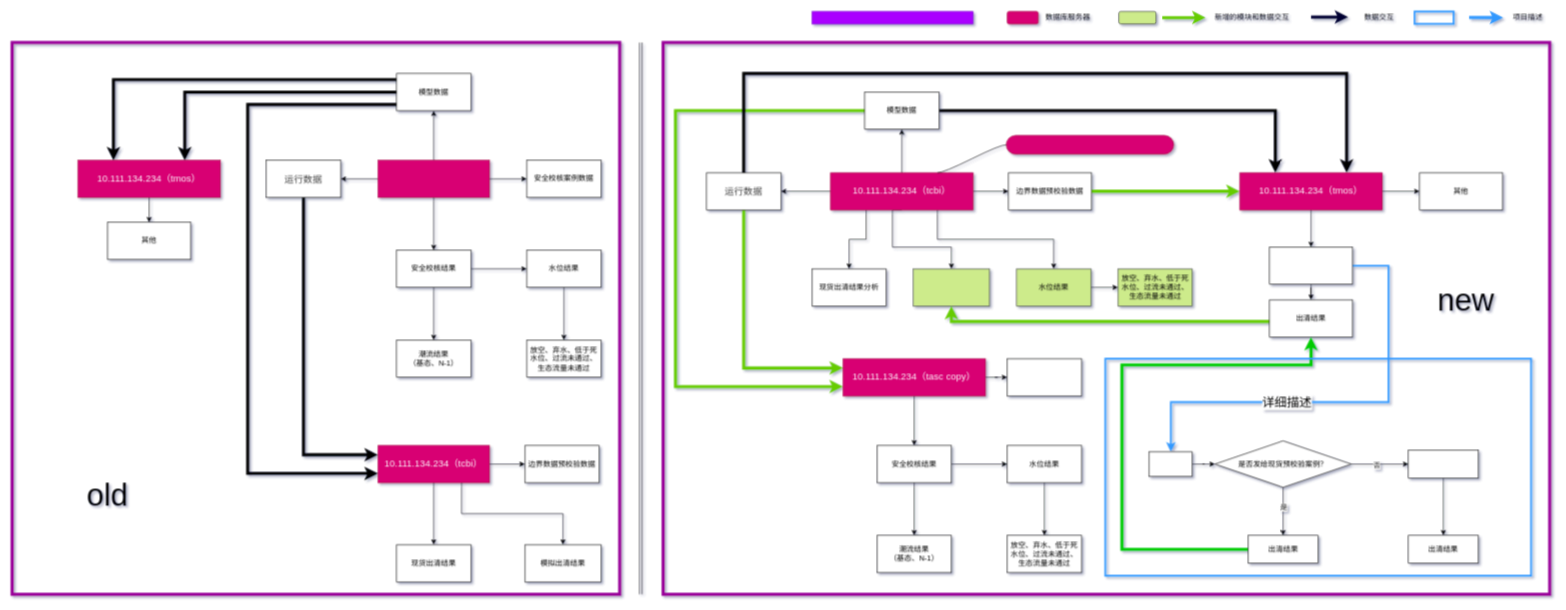
This 1566x610 diagram has some shape labels left out. Here are the shapes that lost their labels. From the top down, the box of each, then its label:
(811, 11, 973, 24): tasc 安全校核；tcbi 边界系统；tmos 现货模拟
(1006, 135, 1174, 154): 原10.111.134.234（tasc）； 改名
(377, 160, 489, 197): 10.111.134.234（tasc）
(1269, 246, 1353, 284): 日前案例
(913, 268, 990, 306): 模拟出清结果分析
(1007, 358, 1082, 396): 安全校核数据
(1148, 451, 1192, 476): 开始
(1408, 450, 1478, 478): 创建案例
